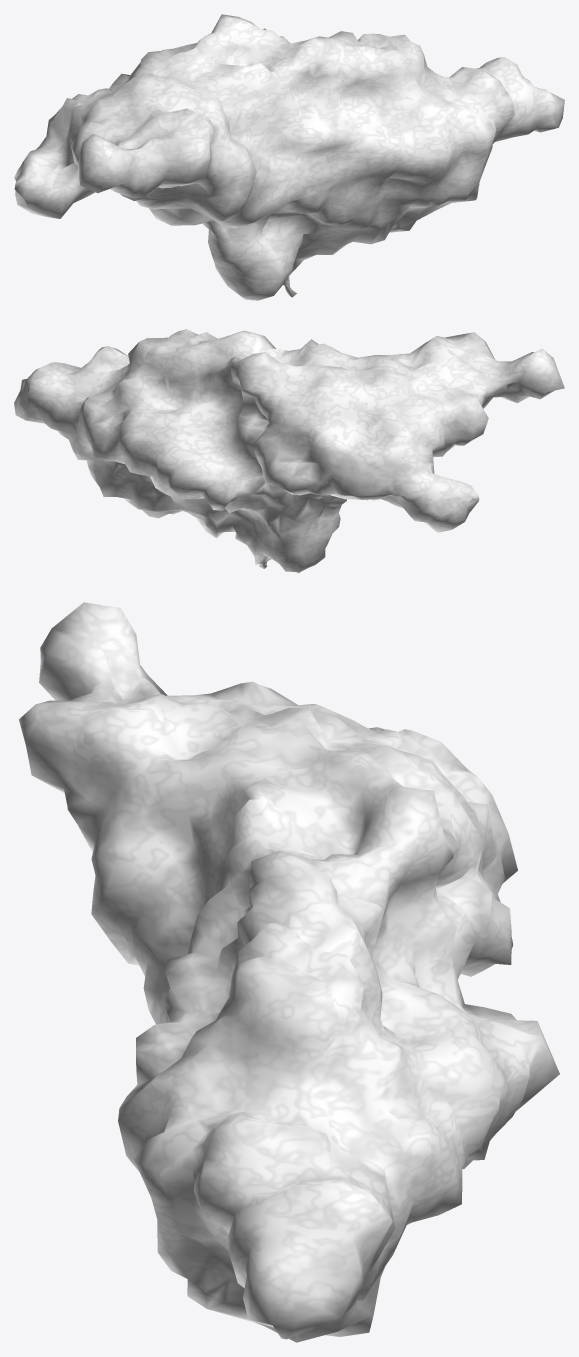
File: dust.fbx
3 renders of one model, top to bottom at view 1: azimuth 30°, elevation 25°; view 2: azimuth 150°, elevation 25°; view 3: azimuth 270°, elevation 25°, orthographic. The views are drawn at different scales.
Visible parts, largest first — view 1: Sphere; view 2: Sphere; view 3: Sphere.
Part boxes in pixels (x1,y1,x2,y2): Sphere: (14, 14, 564, 300); Sphere: (14, 329, 564, 573); Sphere: (19, 602, 559, 1342).
Bounding box in the file's own units: 7.61 × 3.56 × 3.6.
